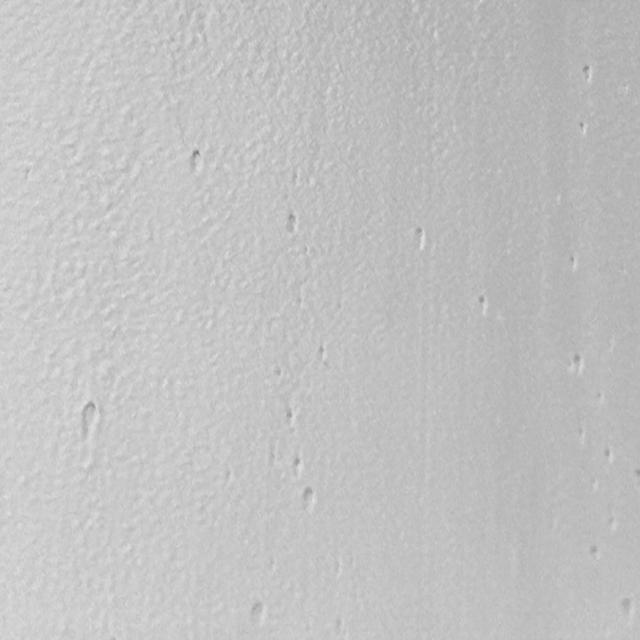pin holes: (78, 400, 102, 440), (246, 598, 268, 628), (566, 352, 588, 380), (410, 224, 431, 253), (617, 596, 637, 626), (185, 150, 205, 178), (299, 488, 319, 515), (473, 292, 492, 318), (283, 212, 301, 238), (313, 344, 331, 367), (289, 456, 306, 480), (566, 252, 582, 276), (600, 444, 616, 466), (580, 63, 596, 84), (284, 407, 298, 430), (587, 544, 603, 563), (577, 120, 589, 138), (271, 365, 285, 380)
